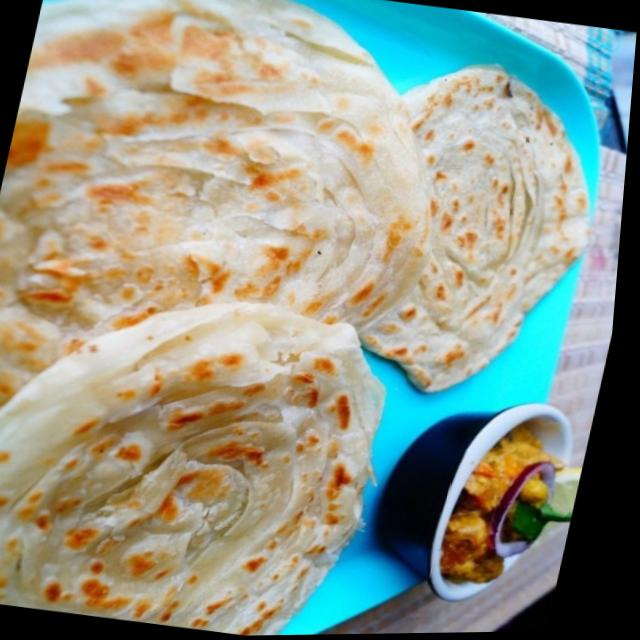CURRY: (439, 419, 567, 583)
PAROTTA: (0, 0, 589, 636)
